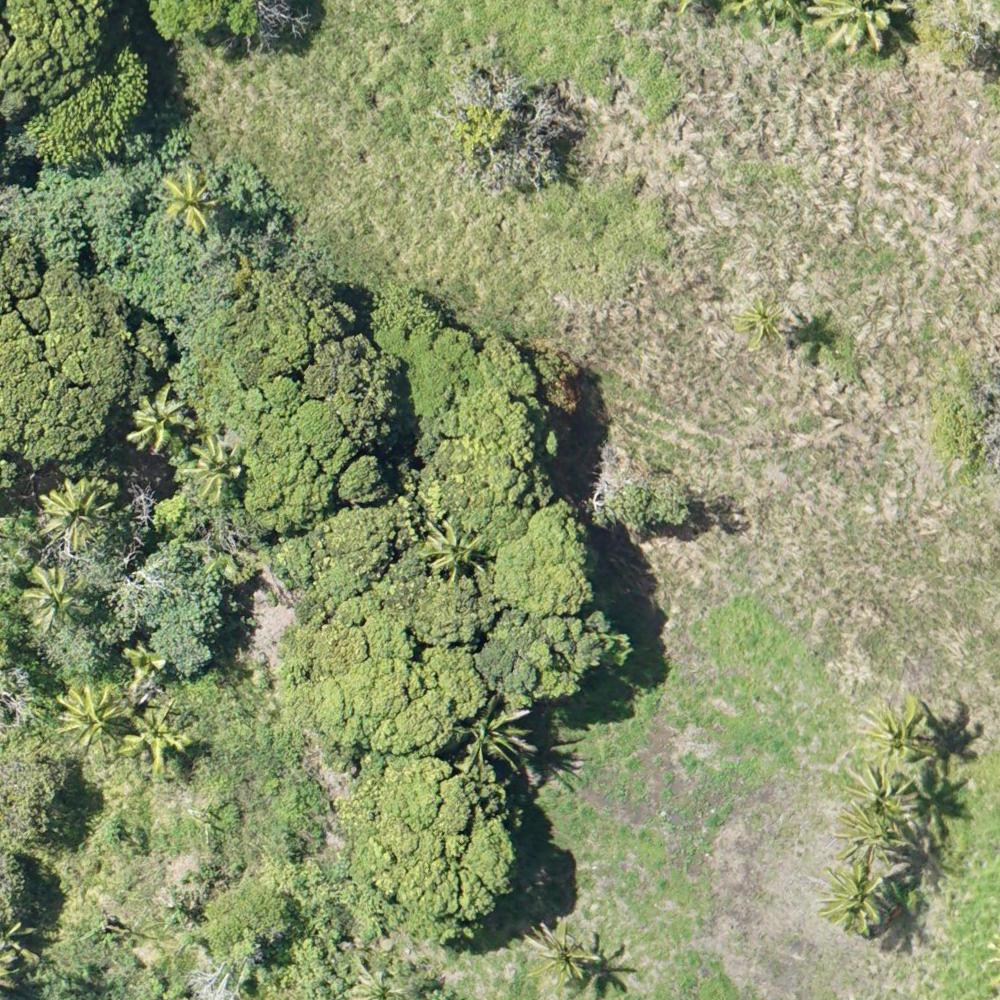Palm: (516, 918, 602, 993), (824, 863, 898, 934), (857, 698, 933, 765), (847, 765, 922, 830), (21, 564, 93, 628), (174, 440, 243, 505), (153, 169, 219, 234), (42, 480, 104, 547), (56, 684, 116, 749), (842, 802, 907, 862), (129, 388, 190, 450), (428, 515, 489, 575), (738, 296, 784, 348)
